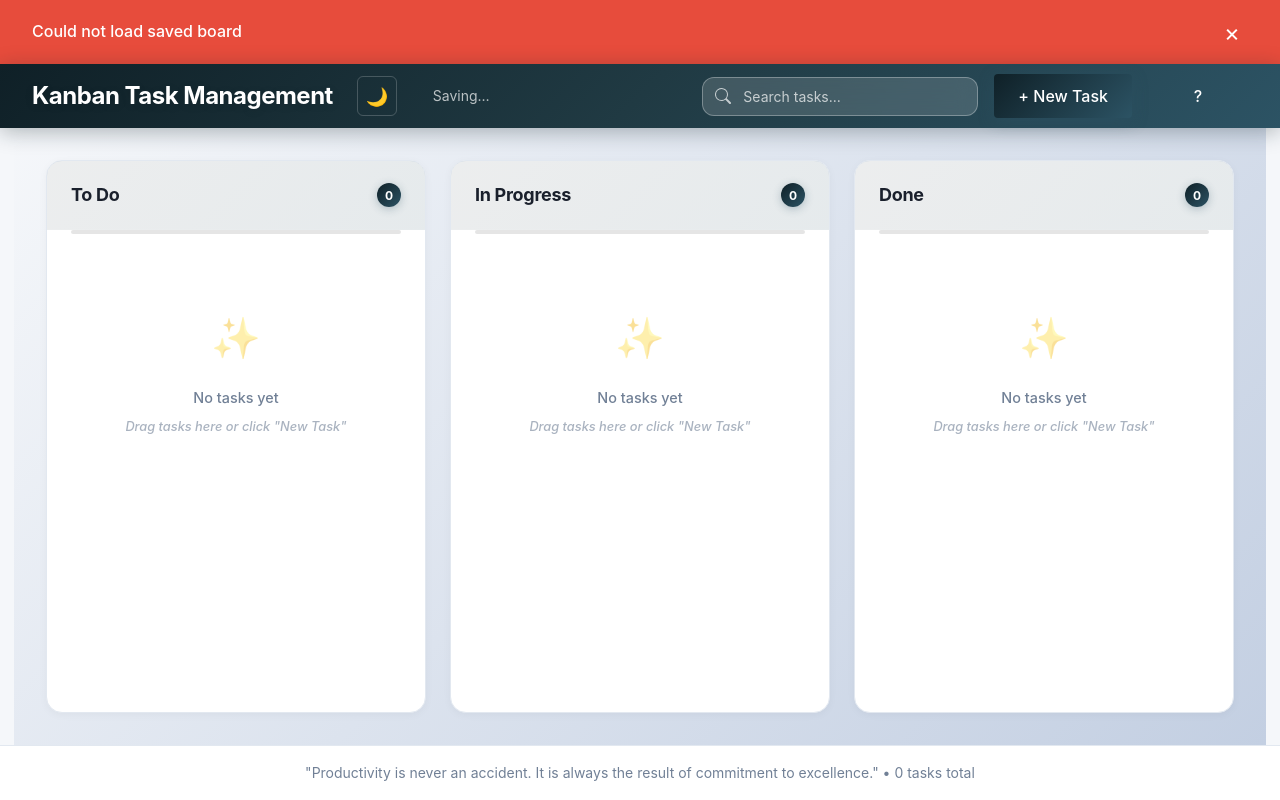
Test: App Integration Tests › LocalStorage Error Handling › closes error banner when close button is clicked
The image size is (1280, 800).
Expected: the message "Could not load saved board ×" is shown, [0, 0, 1279, 64]
Click close button
Click the button named "Close error message" at (1232, 32), box [1216, 16, 1248, 48]
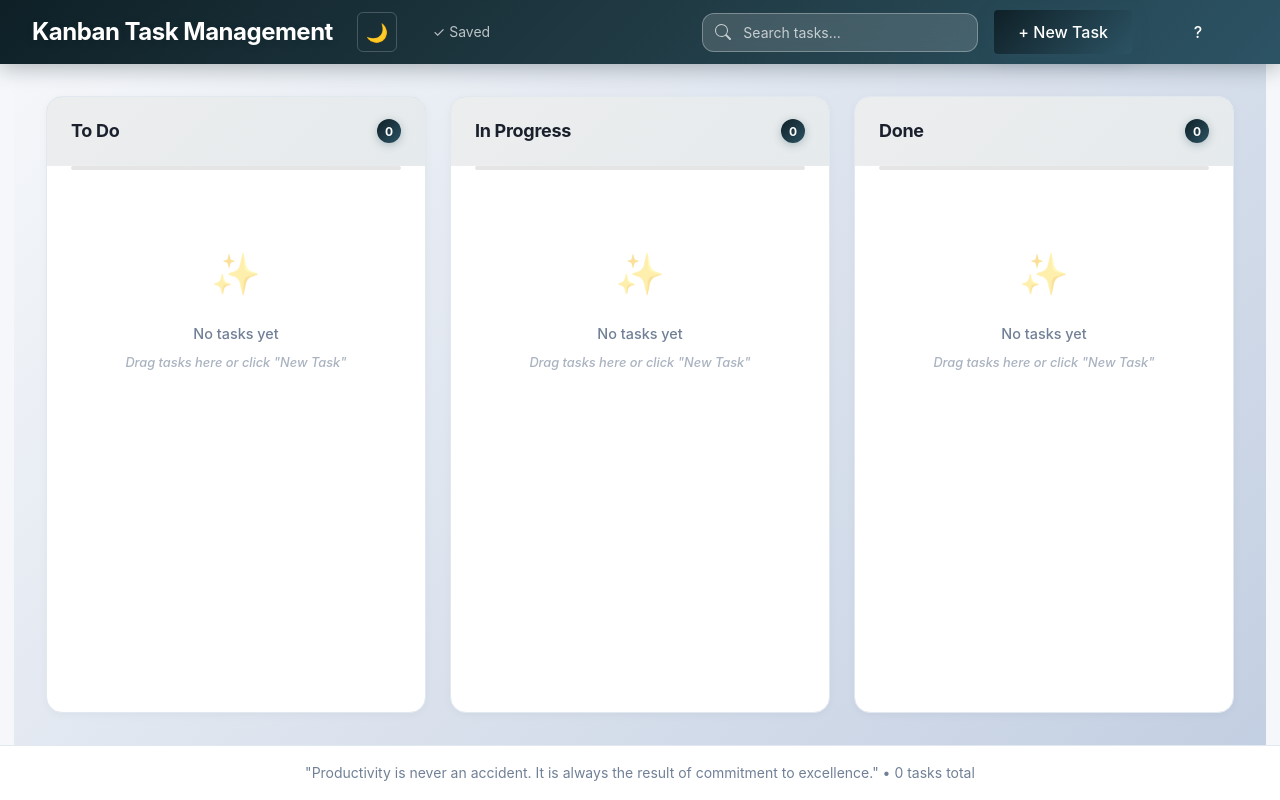
Now the message "Could not load saved board ×" is gone
